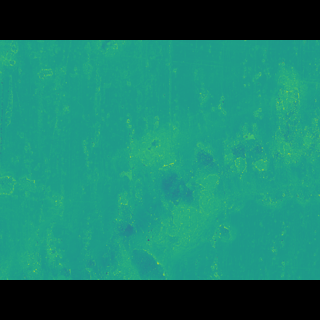Loch: (0, 103, 320, 250)
